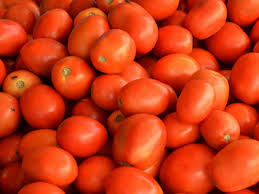tomato: (113, 114, 167, 167), (57, 116, 106, 154), (18, 80, 61, 123), (117, 78, 167, 113), (50, 54, 93, 93), (176, 79, 213, 123), (92, 30, 132, 70)
